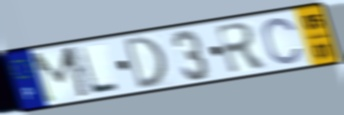3: (171, 28, 211, 83)
C: (261, 16, 305, 66)
D: (122, 34, 170, 92)
L: (75, 45, 122, 97)
M: (28, 44, 93, 106)
R: (212, 21, 270, 76)
